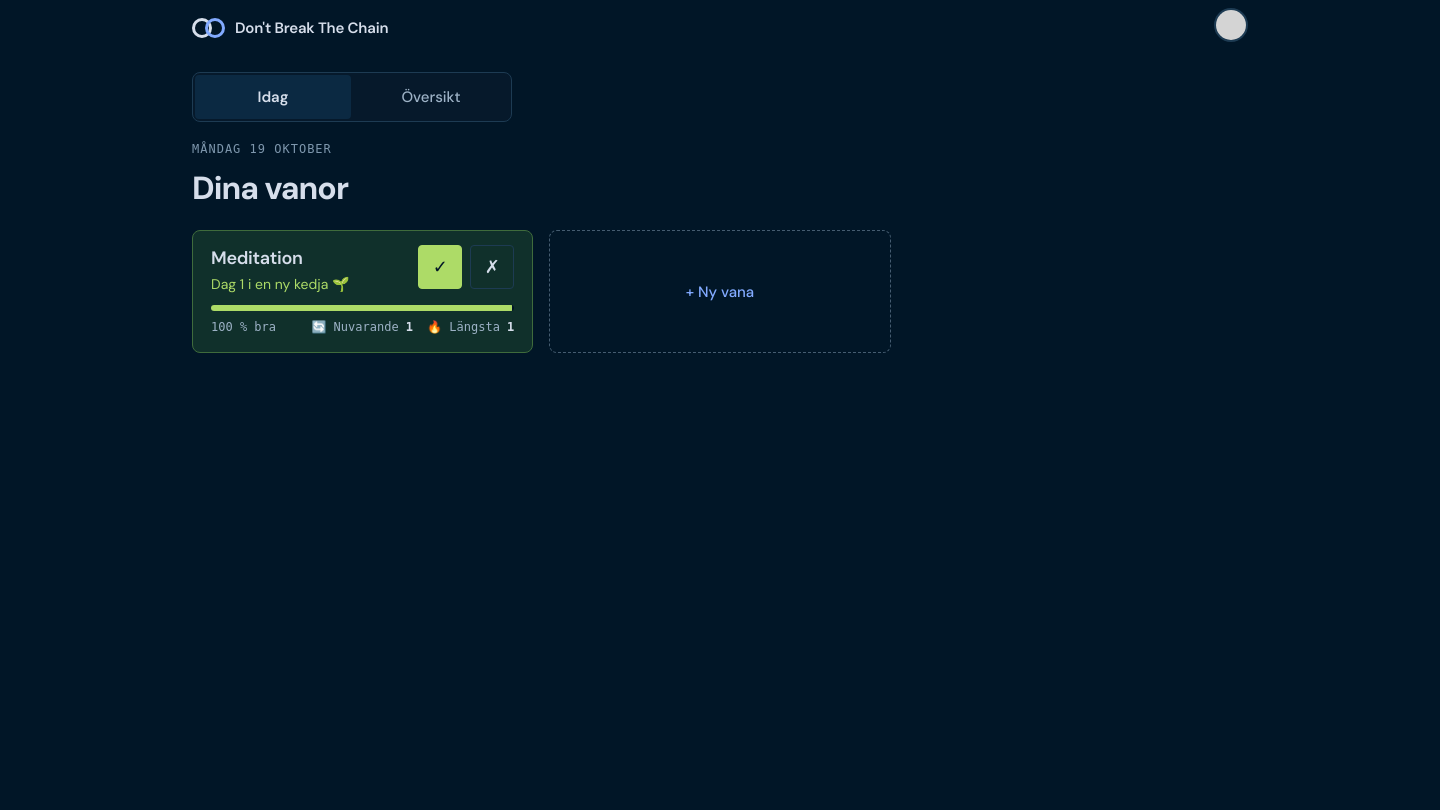
it: HabitsList - User workflows › should switch to Swedish without a reload, and ask in Swedish before deleting a note
Expected: the heading "Dina vanor" is shown, [192,164,348,212]
Expected: the button "+ Ny vana" is shown, [549,230,891,353]
What coordinates should you click on to do the following:
click the radio button named "Klar"
I would click on:
 (440, 267)
Its box is [418,245,462,289].
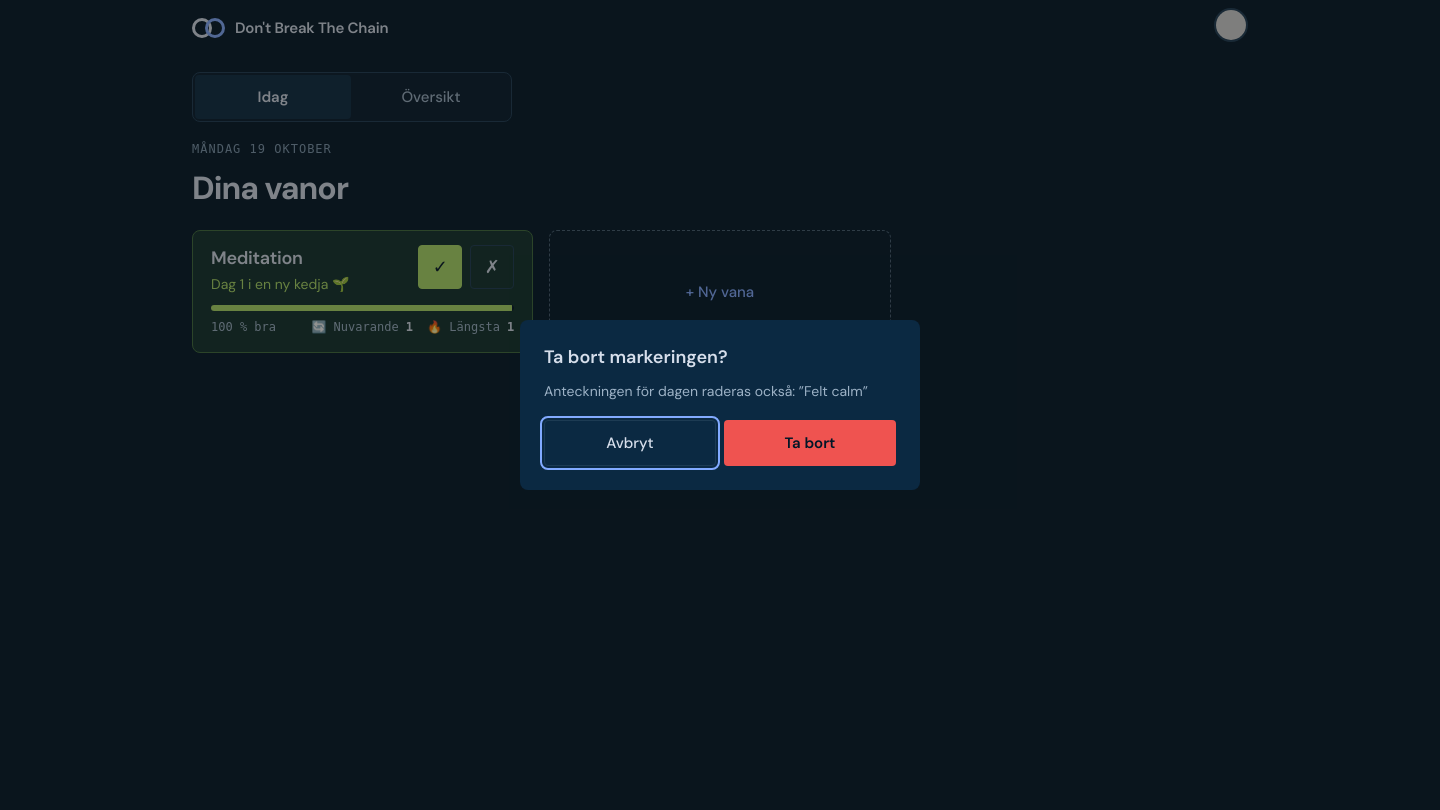
Now the text "Anteckningen för dagen raderas också: ”Felt calm”" is shown, box [544,381,896,402]
Now the button "Avbryt" is shown, box [544,420,716,466]
Now the button "Ta bort" is shown, box [724,420,896,466]
